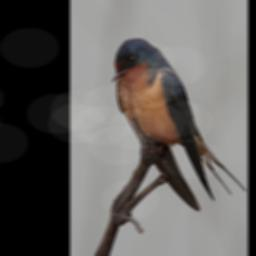Swallow: (111, 36, 245, 211)
